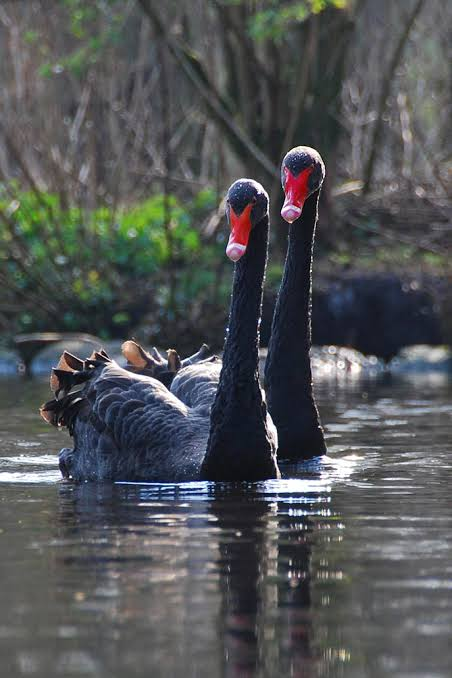black_swan: (38, 178, 279, 485), (120, 146, 328, 464)
